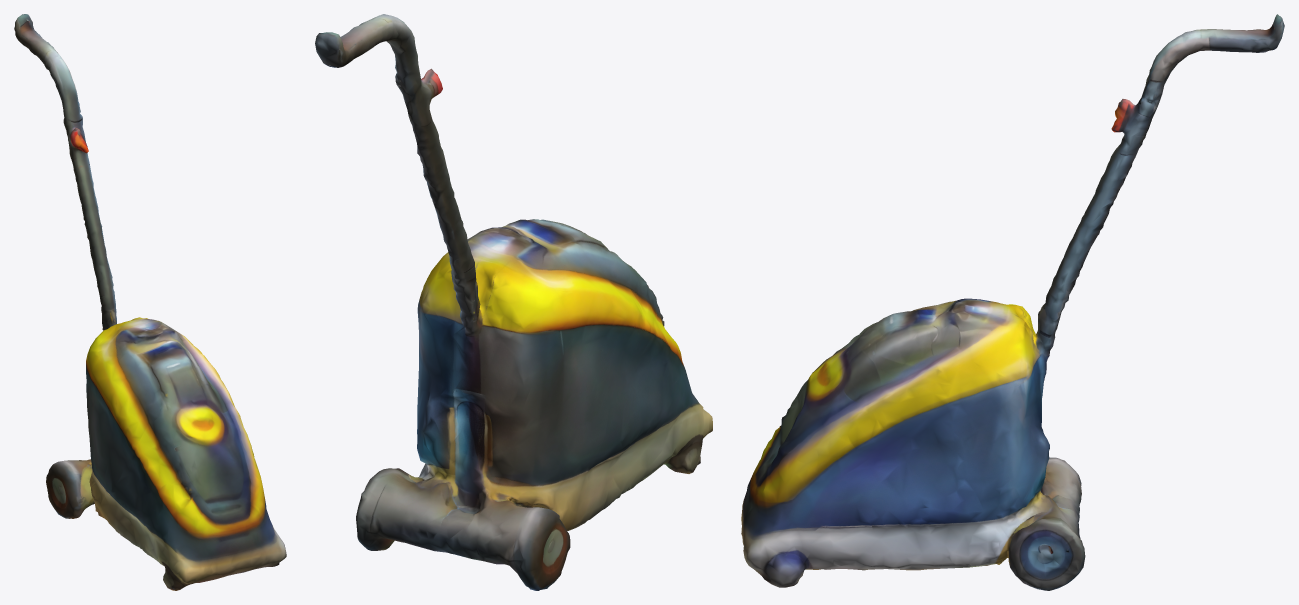
The picture shows the model from 3 angles, left to right: view 1: azimuth 30°, elevation 25°; view 2: azimuth 150°, elevation 25°; view 3: azimuth 270°, elevation 25°; orthographic projection. The views are drawn at different scales.
Bounding box in the file's own units: 0.3618 × 1.2 × 1.09.
1 material, 1 textured.
